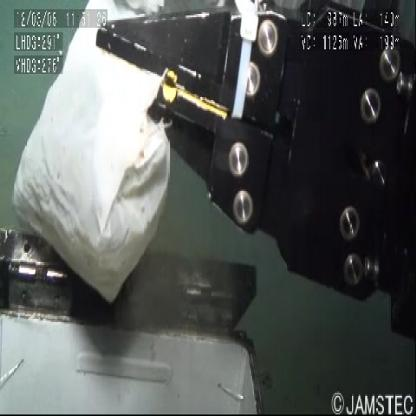Rov: (96, 1, 415, 335), (1, 223, 269, 416)
Rác: (8, 2, 173, 305)
